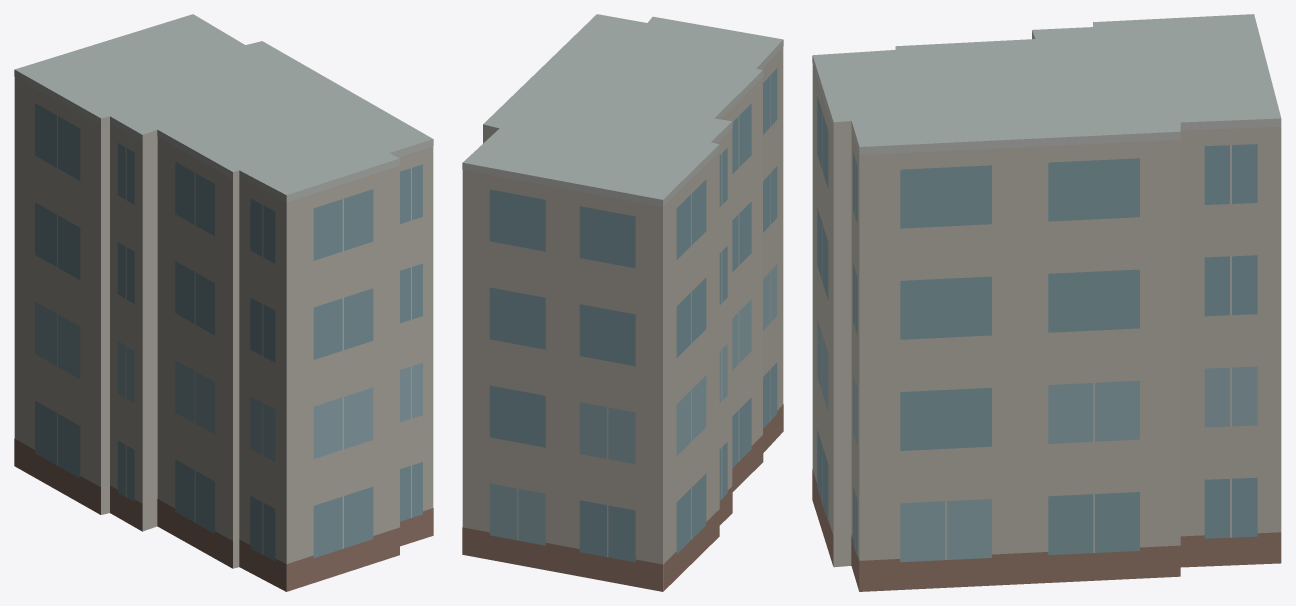
File: survey-upis-32474770.glb
3 views of the same model, side by side, from view 1: azimuth 30°, elevation 25°; view 2: azimuth 150°, elevation 25°; view 3: azimuth 270°, elevation 25° (orthographic). The views are drawn at different scales.
Visible parts, largest first — view 1: survey-upis-32474770.tmp; view 2: survey-upis-32474770.tmp; view 3: survey-upis-32474770.tmp.
Part boxes in pixels (bbox=[...]): survey-upis-32474770.tmp: bbox=[14, 14, 433, 591]; survey-upis-32474770.tmp: bbox=[462, 14, 783, 591]; survey-upis-32474770.tmp: bbox=[812, 14, 1281, 591].
Size of the model in its own units: 8.67 by 13.51 by 12.91.
